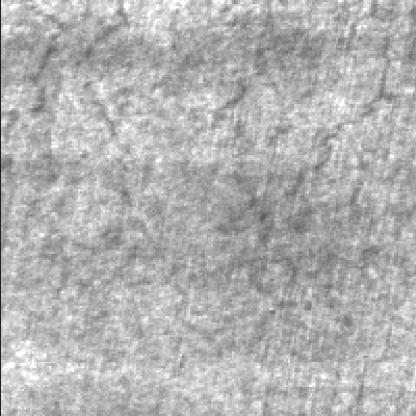crazing: (208, 46, 398, 231), (32, 6, 142, 296)
